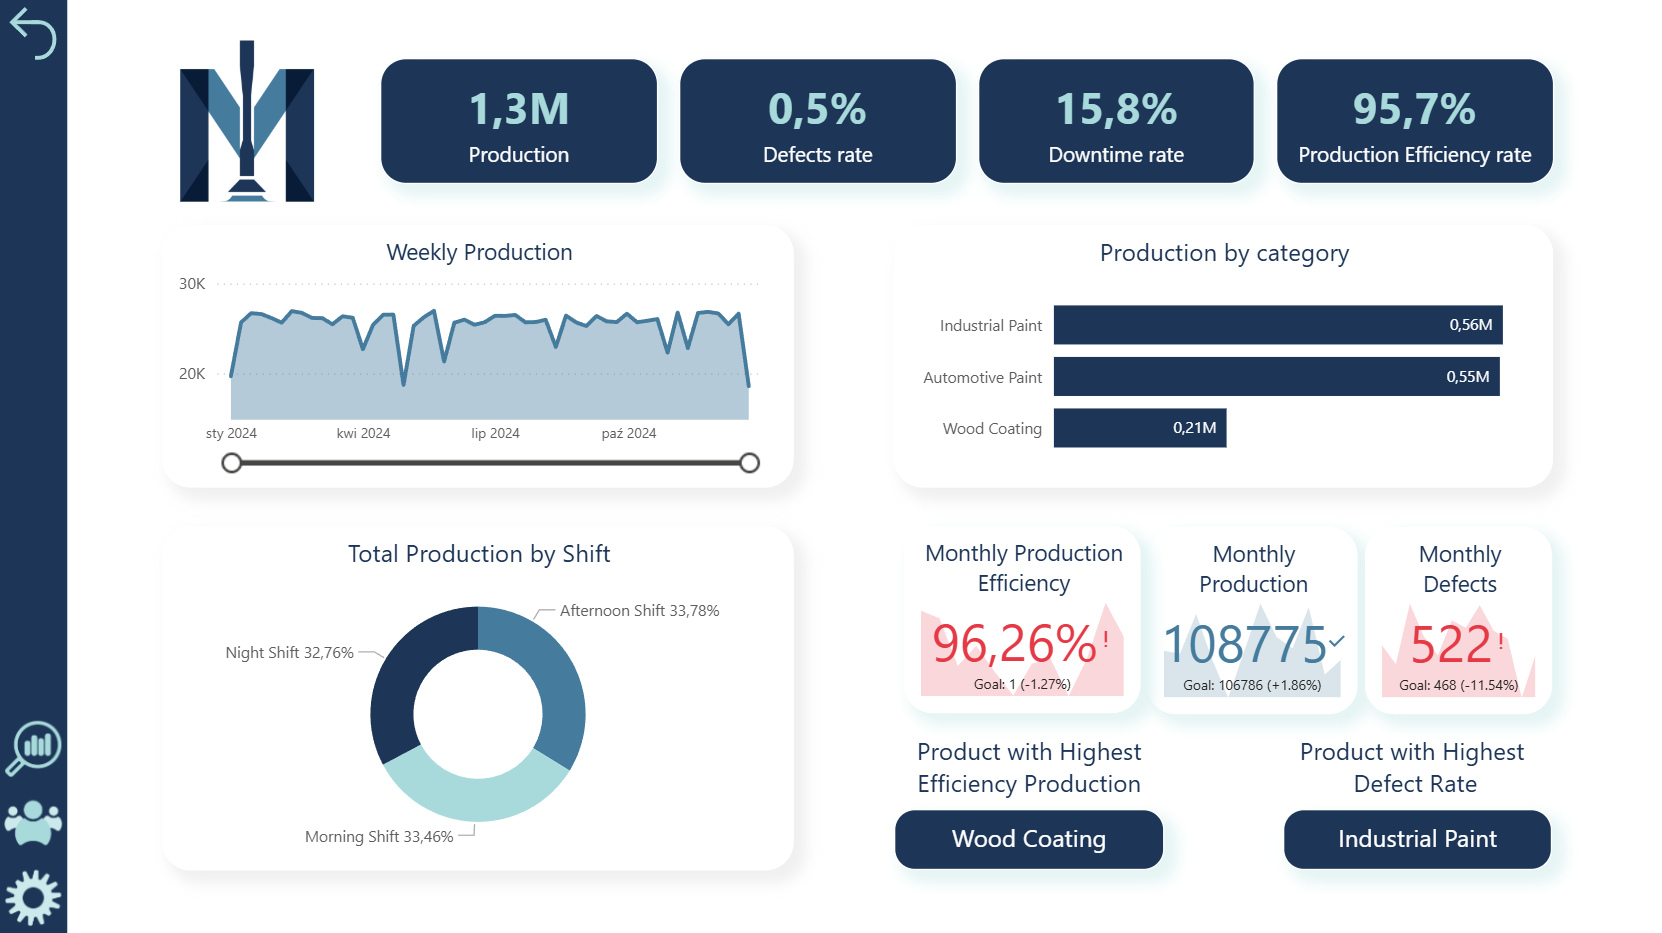

Layout of this report page (visuals, bound fields, positions):
{"tool":"powerbi","page":{"name":"Overview","canvas":[1280,720],"ordinal":0},"visuals":[{"type":"shape","title":"Nav Bar","box":[0,0,52.5,720],"z":0},{"type":"card","fields":{"Values":["Measure Table.Total Units"]},"box":[292.7,45.5,213.6,97.3],"z":0,"group":"g2"},{"type":"kpi","title":"Monthly Production","fields":{"Indicator":["Measure Table.Total Units"],"Goal":["Measure Table.Previous Month Units"],"TrendLine":["Calendar Lookup.Start of Month"]},"box":[883.5,405.8,162.1,144.3],"z":0,"group":"g4"},{"type":"actionButton","box":[0,548.2,52.7,57.3],"z":0,"group":"g1"},{"type":"card","fields":{"Values":["Min(Product Lookup.Product Type)"]},"box":[688.1,623.4,208.2,47.3],"z":0,"group":"g3"},{"type":"card","fields":{"Values":["Measure Table.Defects %"]},"box":[522.7,45.5,213.6,97.3],"z":1000,"group":"g2"},{"type":"areaChart","title":"Weekly Production","fields":{"Y":["Measure Table.Total Units"],"Category":["Calendar Lookup.Start of Week"]},"box":[125.5,173.6,486.4,201.8],"z":1000},{"type":"kpi","title":"Monthly Defects","fields":{"TrendLine":["Calendar Lookup.Start of Month"],"Goal":["Measure Table.Previous Month Defects"],"Indicator":["Measure Table.Total Defects"]},"box":[1050.6,405.8,144.3,144.3],"z":1000,"group":"g4"},{"type":"actionButton","box":[0,605.5,52.7,57.3],"z":1000,"group":"g1"},{"type":"card","fields":{"Values":["Min(Product Lookup.Product Type)"]},"box":[987.2,623.4,207.3,47.3],"z":1000,"group":"g3"},{"type":"card","fields":{"Values":["Measure Table.Downtime %"]},"box":[752.7,45.5,212.7,97.3],"z":2000,"group":"g2"},{"type":"donutChart","title":"Total Production by Shift","fields":{"Category":["Shift Lookup.Description"],"Y":["Measure Table.Total Units"]},"box":[125.4,405.4,486.2,264.6],"z":2000},{"type":"kpi","title":"Monthly Production Efficiency","fields":{"TrendLine":["Calendar Lookup.Start of Month"],"Goal":["Measure Table.Previous Month Efficiency"],"Indicator":["Measure Table.Production Efficiency %"]},"box":[696.2,405.4,182.3,143.8],"z":2000,"group":"g4"},{"type":"textbox","box":[688.2,560,208.2,66.4],"z":2000,"group":"g3"},{"type":"actionButton","box":[0,662.7,52.7,57.3],"z":2000,"group":"g1"},{"type":"card","fields":{"Values":["Measure Table.Production Efficiency %"]},"box":[981.8,45.5,213.6,97.3],"z":3000,"group":"g2"},{"type":"barChart","title":"Production by category","fields":{"Category":["Product Lookup.Product Type"],"Y":["Measure Table.Total Units"]},"box":[688.2,173.5,506.7,201.7],"z":3000},{"type":"textbox","box":[986.9,560,205.4,70],"z":3000,"group":"g3"},{"type":"image","title":"Logo","box":[125.5,27.3,131.8,133.6],"z":4000},{"type":"actionButton","title":"Reset","box":[0,0,52.7,53.6],"z":5000},{"type":"group","id":"g1","title":"Navigation","box":[0,548.2,52.7,171.8],"z":6000},{"type":"group","id":"g2","title":"Data cards","box":[292.7,45.5,902.7,97.3],"z":7000},{"type":"group","id":"g3","title":"Single Products","box":[688.1,560,506.4,110.7],"z":8000},{"type":"group","id":"g4","title":"KPIs","box":[696.2,405.4,498.7,144.7],"z":9000}]}

Visuals, with their boxes on the page's 1280x720 design canvas (x1, y1, x2, y2). These are canvas units, not pixel positions in the 1662x933 screenshot, which may show the page scaled, cropped or inside an application window:
"Nav Bar" shape: crop(0, 0, 52, 720)
card - Measure Table.Total Units: crop(293, 46, 506, 143)
"Monthly Production" kpi: crop(884, 406, 1046, 550)
actionButton: crop(0, 548, 53, 606)
card - Min(Product Lookup.Product Type): crop(688, 623, 896, 671)
card - Measure Table.Defects %: crop(523, 46, 736, 143)
"Weekly Production" areaChart: crop(126, 174, 612, 375)
"Monthly Defects" kpi: crop(1051, 406, 1195, 550)
actionButton: crop(0, 606, 53, 663)
card - Min(Product Lookup.Product Type): crop(987, 623, 1194, 671)
card - Measure Table.Downtime %: crop(753, 46, 965, 143)
"Total Production by Shift" donutChart: crop(125, 405, 612, 670)
"Monthly Production Efficiency" kpi: crop(696, 405, 878, 549)
textbox: crop(688, 560, 896, 626)
actionButton: crop(0, 663, 53, 720)
card - Measure Table.Production Efficiency %: crop(982, 46, 1195, 143)
"Production by category" barChart: crop(688, 174, 1195, 375)
textbox: crop(987, 560, 1192, 630)
"Logo" image: crop(126, 27, 257, 161)
"Reset" actionButton: crop(0, 0, 53, 54)
"Navigation" group: crop(0, 548, 53, 720)
"Data cards" group: crop(293, 46, 1195, 143)
"Single Products" group: crop(688, 560, 1194, 671)
"KPIs" group: crop(696, 405, 1195, 550)
